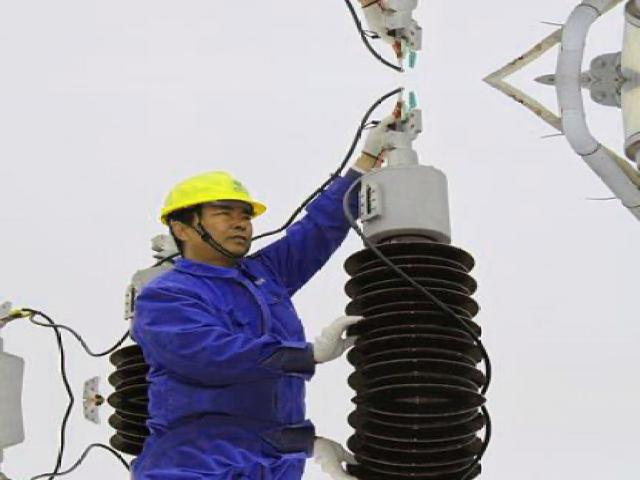Helmet: (154, 165, 268, 231)
